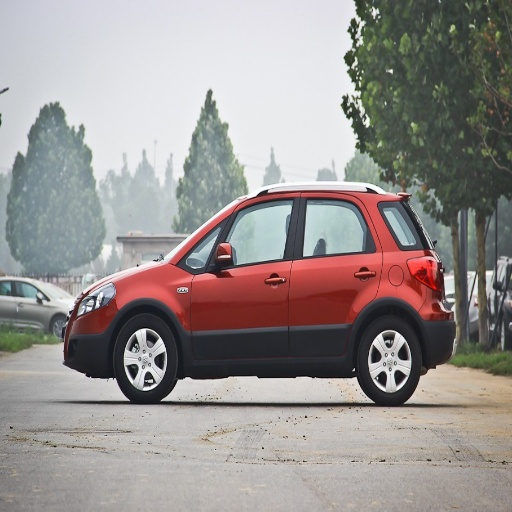back_left_door: (288, 194, 382, 354)
front_left_door: (190, 194, 299, 356)
